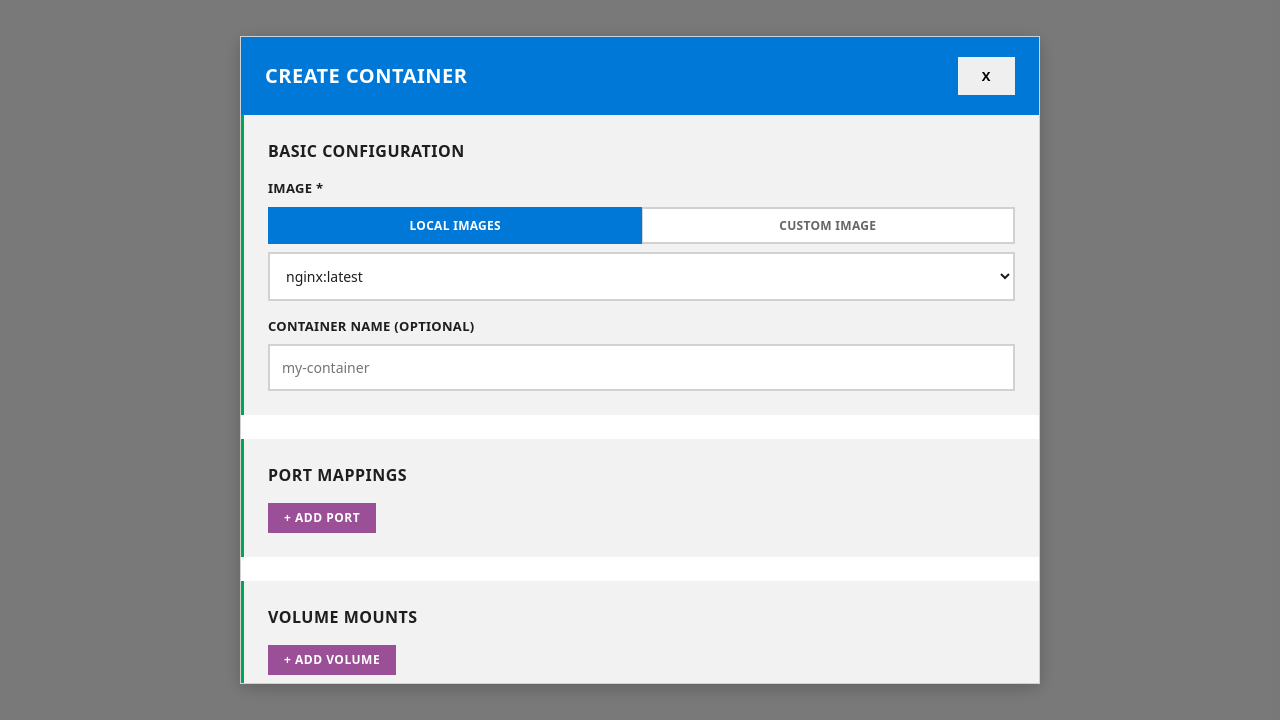
CreateContainer › dynamic form elements › adds port mapping row
This screenshot has width=1280, height=720.
Click the button "+ Add Port".
click(322, 518)  # box [268,503,376,533]
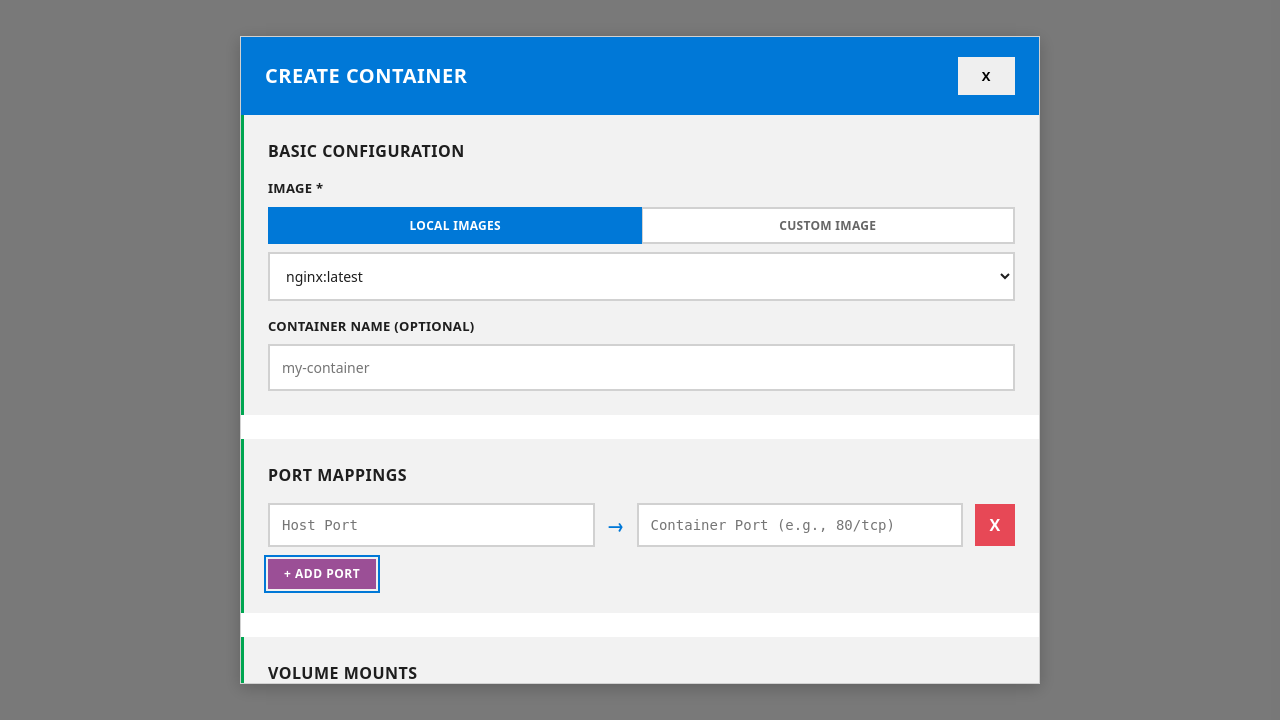
Expected: the field with placeholder "Host Port" is shown, [268,503,594,547]
Expected: the field with placeholder "Container Port (e.g., 80/tcp)" is shown, [636,503,963,547]
